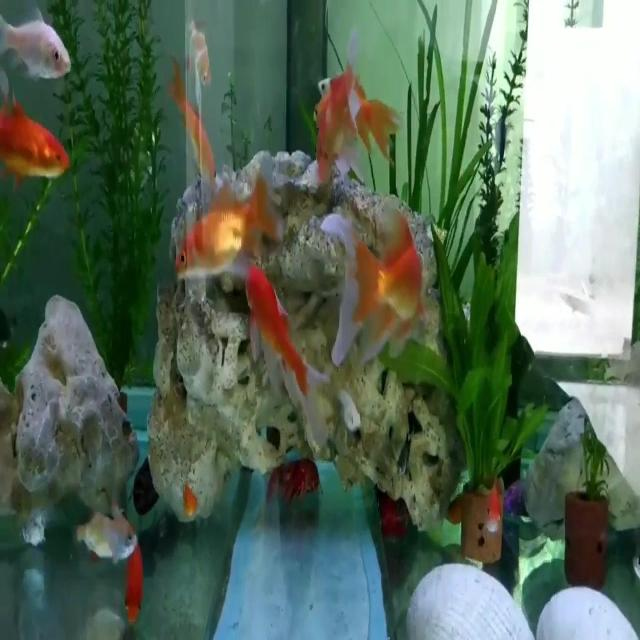GoldFish: (323, 198, 435, 382), (171, 168, 286, 280), (0, 88, 78, 196), (0, 7, 84, 82)
